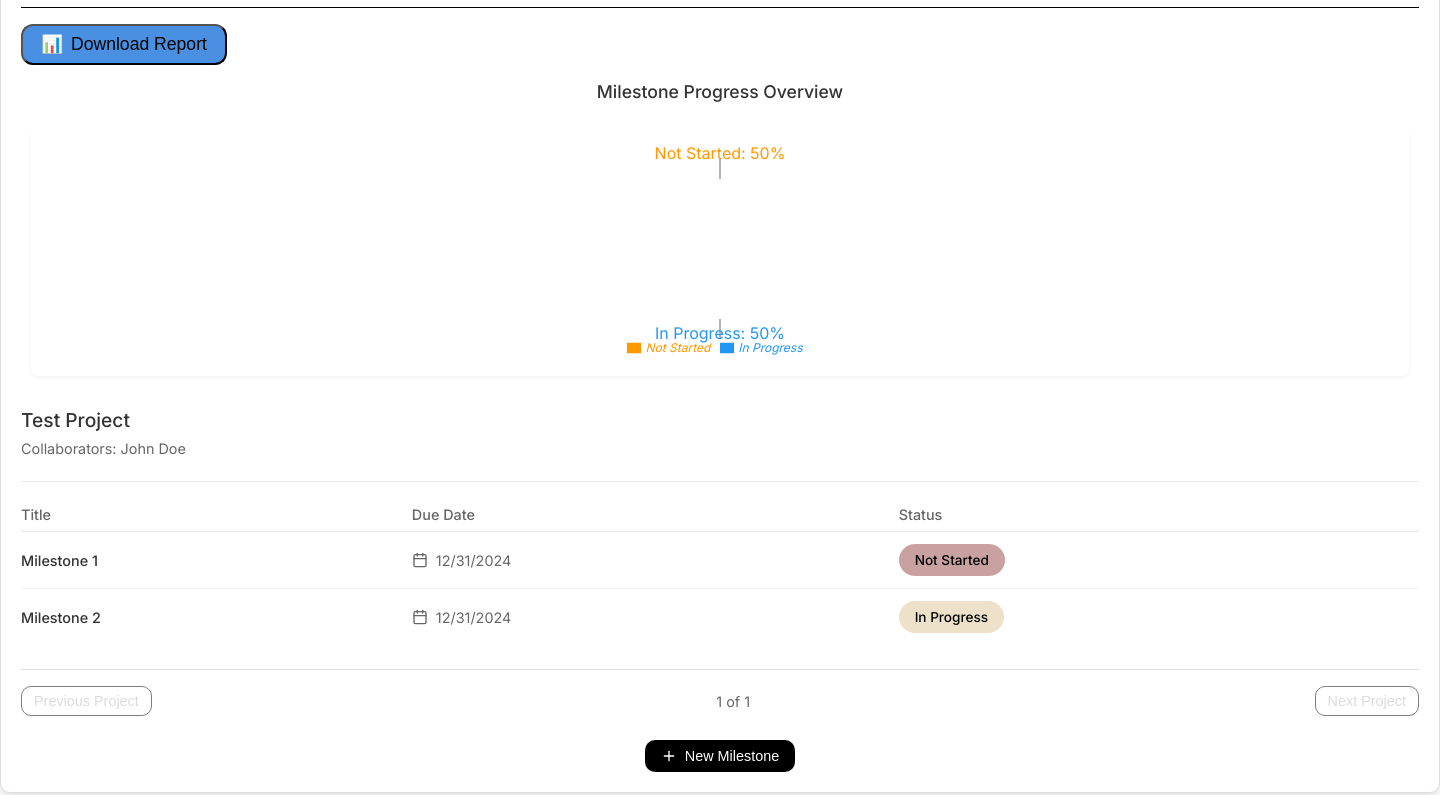
MilestonesWidget › opens create milestone form when create button is clicked
This screenshot has width=1440, height=795.
(page scrolled)
Expected: the heading "Test Project" is shown, [21, 408, 130, 432]
Click the button "New Milestone".
click(720, 756)  # box [645, 740, 795, 772]
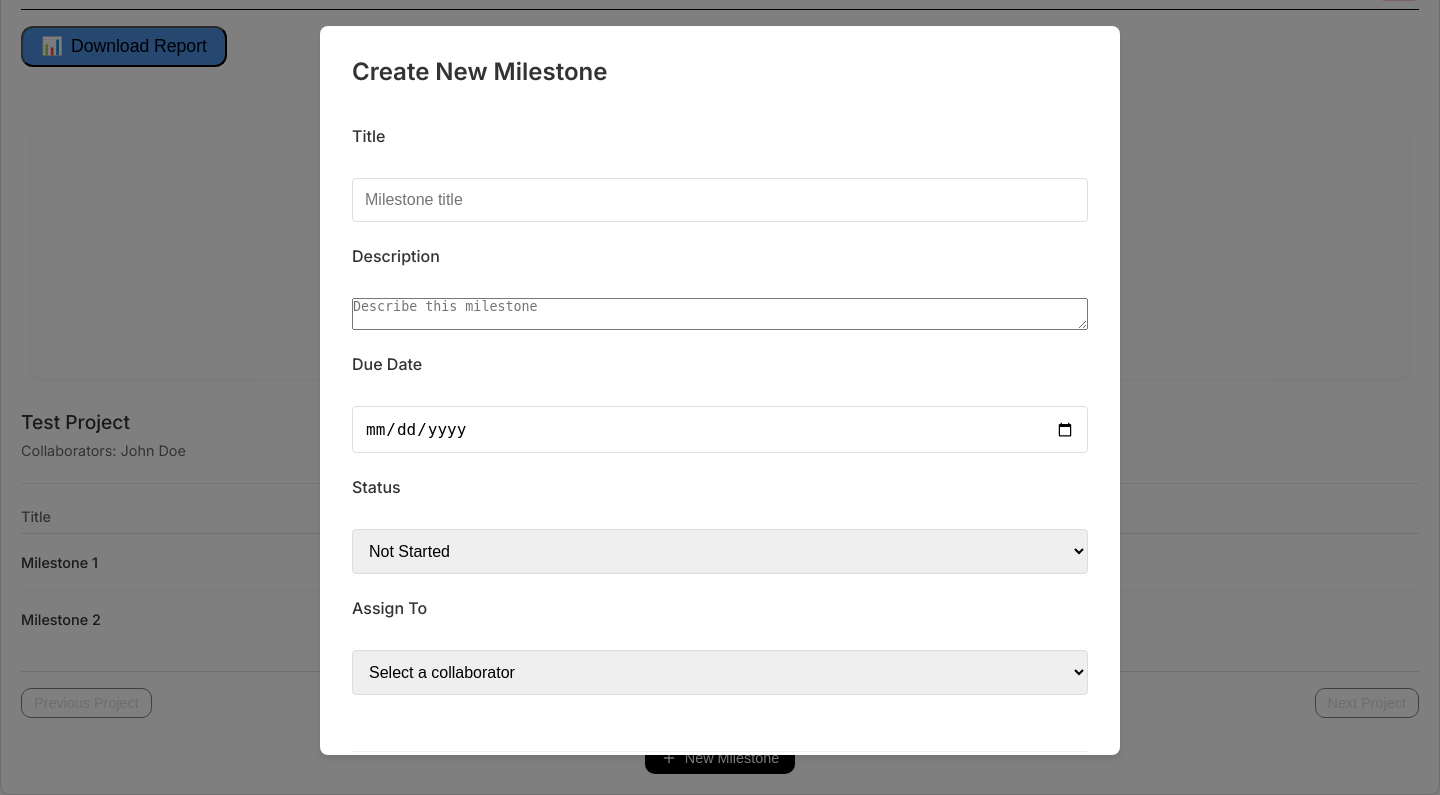
Now the heading "Create New Milestone" is shown, box [352, 56, 607, 86]
